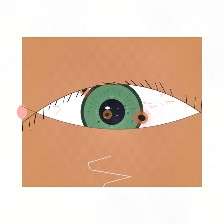foreign_body_visible: (96, 106, 119, 124)
